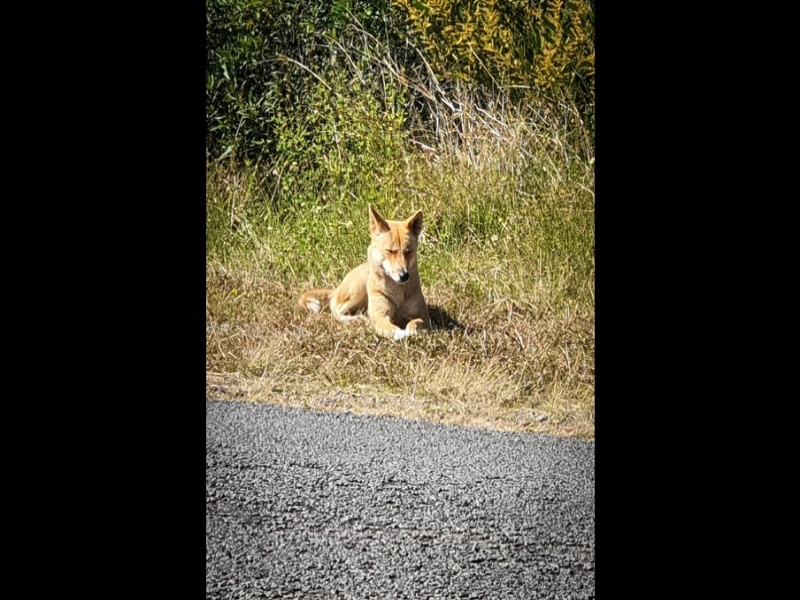dog: (296, 201, 444, 349)
